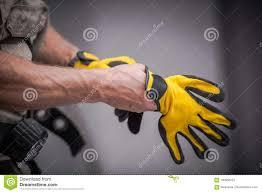gloves: (145, 66, 237, 166), (70, 50, 138, 68)
